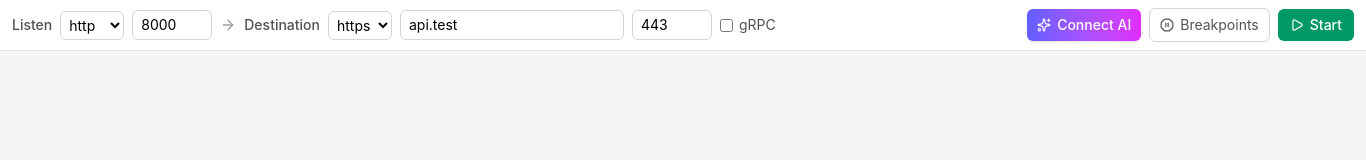
Test: SettingsBar › marks listen port  invalid, does not persist it, and disables Start
The image size is (1366, 160).
Clear the field named "Listen port". click: coordinates (172, 25)
box: [132,10,212,40]
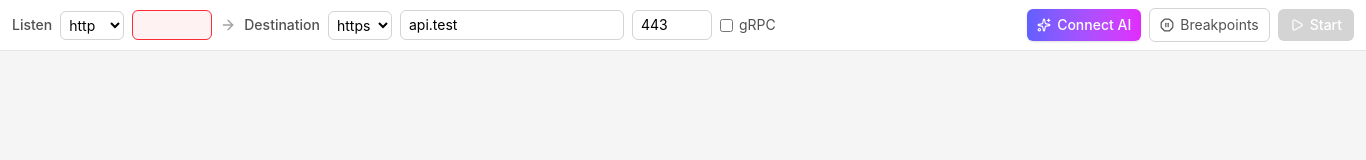
Result: the button "Start" is disabled at [1278,9,1354,41]
